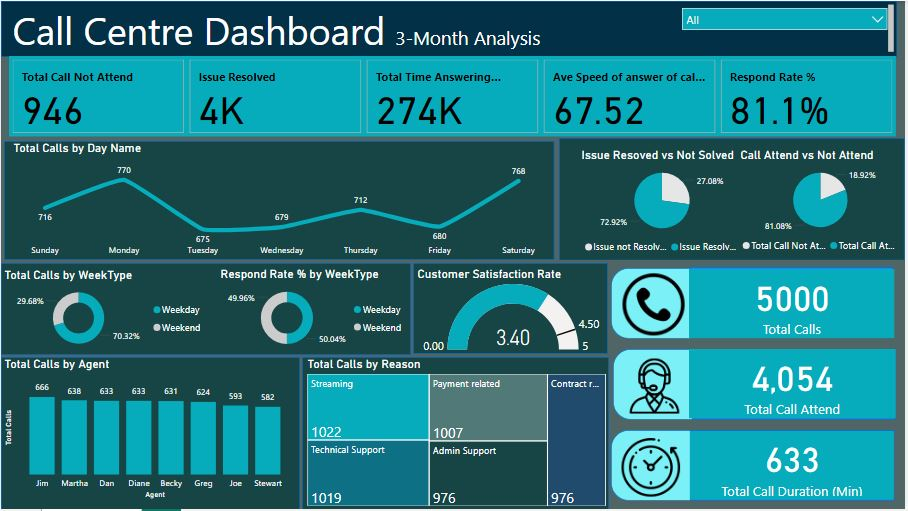

The page's visual inventory and layout, read from the dashboard file:
{"tool":"powerbi","page":{"name":"Dashboard","canvas":[1280,720],"ordinal":0},"visuals":[{"type":"shape","box":[977.5,377.6,288,98.1],"z":0,"group":"g1"},{"type":"shape","box":[979.2,493.7,288,100],"z":0,"group":"g3"},{"type":"shape","box":[427.3,504.1,435,216.3],"z":0},{"type":"shape","box":[977.5,609.3,288.2,100.3],"z":0,"group":"g2"},{"type":"shape","box":[865,378.5,112.8,100.1],"z":1000,"group":"g1"},{"type":"shape","box":[867.1,493.7,112.8,100.3],"z":1000,"group":"g3"},{"type":"shape","box":[0,504.1,423.7,216.3],"z":1000},{"type":"shape","box":[864.5,608.7,112.8,100.3],"z":1000,"group":"g2"},{"type":"shape","box":[0,371.8,581,130.5],"z":2000},{"type":"shape","box":[790.2,194.9,489.8,173.4],"z":3000},{"type":"shape","box":[4.3,198.4,780,168.4],"z":4000},{"type":"shape","box":[0,0,1270.1,79.2],"z":5000},{"type":"cardVisual","fields":{"Data":["All Measure.Total Call Not Attend","All Measure.Issue Resolved","All Measure.Total Time of Speed of Answer(Sec)","All Measure.Ave Speed of answer of call sec","All Measure.Respond Rate %"]},"box":[11.4,78.5,1257.2,114.2],"z":6000},{"type":"pieChart","title":"Issue Resoved vs Not Solved","fields":{"Y":["All Measure.Issue not Resolved","All Measure.Issue Resolved"]},"box":[818.1,207.7,238.1,159.3],"z":7000},{"type":"pieChart","title":"Call Attend vs Not Attend","fields":{"Y":["All Measure.Total Call Not Attend","All Measure.Total Call Attend"]},"box":[1043.7,207.7,236.3,157.5],"z":8000},{"type":"textbox","box":[10.7,0,1258.5,78.7],"z":9000},{"type":"group","id":"g1","title":"Group 1","box":[865,377.6,400.5,101],"z":10000},{"type":"group","id":"g2","title":"Group 1","box":[864.5,608.7,401.3,100.8],"z":11000},{"type":"group","id":"g3","title":"Group 1","box":[867.1,493.7,400.1,100.3],"z":12000},{"type":"lineChart","fields":{"Category":["CallCentre.Day Name"],"Y":["All Measure.Total Calls"]},"box":[12.5,198.4,770.5,173.4],"z":13000},{"type":"columnChart","fields":{"Y":["All Measure.Total Calls"],"Category":["CallCentre.Agent"]},"box":[0,504.1,420.1,205.6],"z":14000},{"type":"treemap","fields":{"Group":["CallCentre.Topic"],"Values":["All Measure.Total Calls"]},"box":[429.1,504.1,432.6,216.3],"z":15000},{"type":"donutChart","fields":{"Category":["CallCentre.WeekType"],"Y":["All Measure.Total Calls"]},"box":[0,378.1,296.8,122.7],"z":16000},{"type":"donutChart","fields":{"Y":["All Measure.Respond Rate %"],"Category":["CallCentre.WeekType"]},"box":[305.7,377.2,275.3,125.1],"z":17000},{"type":"shape","box":[584.6,371.8,276,128.7],"z":18000},{"type":"slicer","fields":{"Values":["CallCentre.Month Name"]},"box":[954.6,0,311.1,78.7],"z":19000},{"type":"card","fields":{"Values":["All Measure.Total Call Attend"]},"box":[974.6,493.7,292.5,98.5],"z":20000},{"type":"card","fields":{"Values":["All Measure.Total Call Duration (Min)"]},"box":[976.1,609.6,289,96.5],"z":21000},{"type":"card","fields":{"Values":["All Measure.Total Calls"]},"box":[974.6,379.6,291.1,98.5],"z":22000},{"type":"image","box":[879.6,502.3,91.2,87.6],"z":23000},{"type":"image","box":[876,377.2,98.3,105.5],"z":24000},{"type":"image","box":[874.2,609.6,93,103.7],"z":25000},{"type":"gauge","title":"Customer Satisfaction Rate","fields":{"TargetValue":["All Measure.Target Satisfication Value"],"Y":["Avg(CallCentre.Satisfaction rating)"],"MaxValue":["Max(CallCentre.Satisfaction rating)1"]},"box":[585.1,376.7,275,127],"z":26000}]}

Visuals, with their boxes in screenshot pixels (x1, y1, x2, y2), scaled from the page's 1280x720 canvas onto the 908x511 screenshot:
shape: 693 268 898 338
shape: 695 350 899 421
shape: 303 358 612 510
shape: 693 432 898 504
shape: 614 269 694 340
shape: 615 350 695 422
shape: 0 358 301 510
shape: 613 432 693 503
shape: 0 264 412 356
shape: 561 138 907 261
shape: 3 141 556 260
shape: 0 0 901 56
cardVisual - All Measure.Total Call Not Attend x All Measure.Issue Resolved: 8 56 900 137
"Issue Resoved vs Not Solved" pieChart: 580 147 749 260
"Call Attend vs Not Attend" pieChart: 740 147 907 259
textbox: 8 0 900 56
"Group 1" group: 614 268 898 340
"Group 1" group: 613 432 898 504
"Group 1" group: 615 350 899 422
lineChart - CallCentre.Day Name x All Measure.Total Calls: 9 141 555 264
columnChart - All Measure.Total Calls x CallCentre.Agent: 0 358 298 504
treemap - CallCentre.Topic x All Measure.Total Calls: 304 358 611 510
donutChart - CallCentre.WeekType x All Measure.Total Calls: 0 268 211 355
donutChart - All Measure.Respond Rate % x CallCentre.WeekType: 217 268 412 356
shape: 415 264 610 355
slicer - CallCentre.Month Name: 677 0 898 56
card - All Measure.Total Call Attend: 691 350 899 420
card - All Measure.Total Call Duration (Min): 692 433 897 501
card - All Measure.Total Calls: 691 269 898 339
image: 624 356 689 419
image: 621 268 691 343
image: 620 433 686 506
"Customer Satisfaction Rate" gauge: 415 267 610 357
